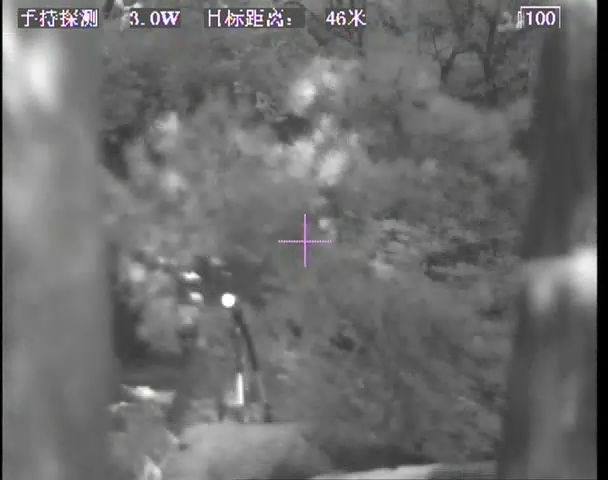my: (219, 289, 237, 308)
